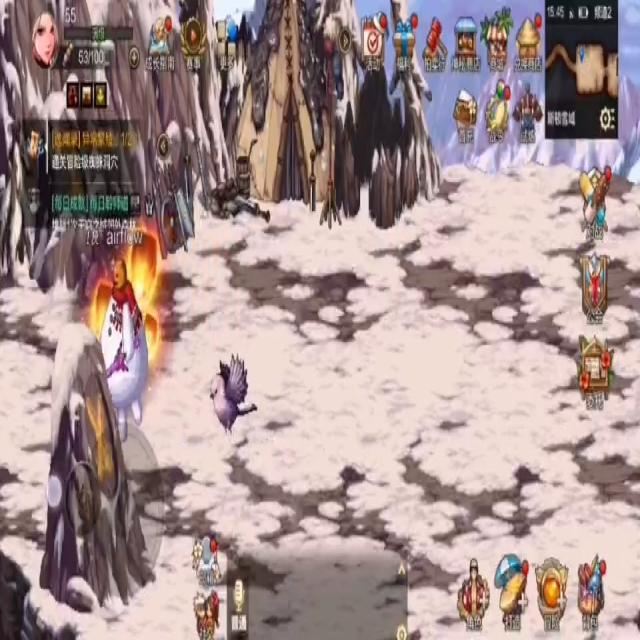player: (96, 257, 148, 448)
